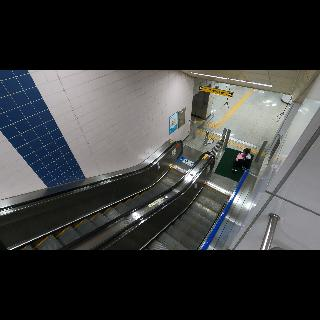anomaly: (232, 146, 252, 174)
